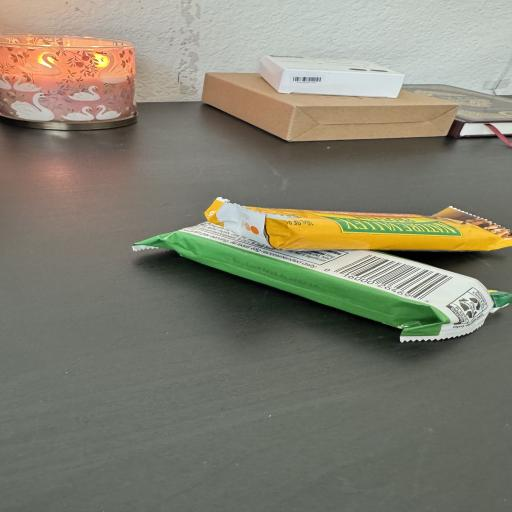granola: (133, 223, 511, 341), (205, 198, 511, 250)
